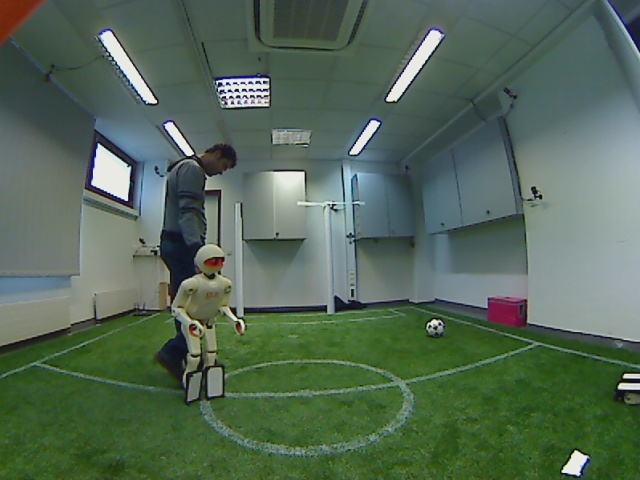ball: (423, 316, 449, 341)
robot: (173, 243, 247, 405)
